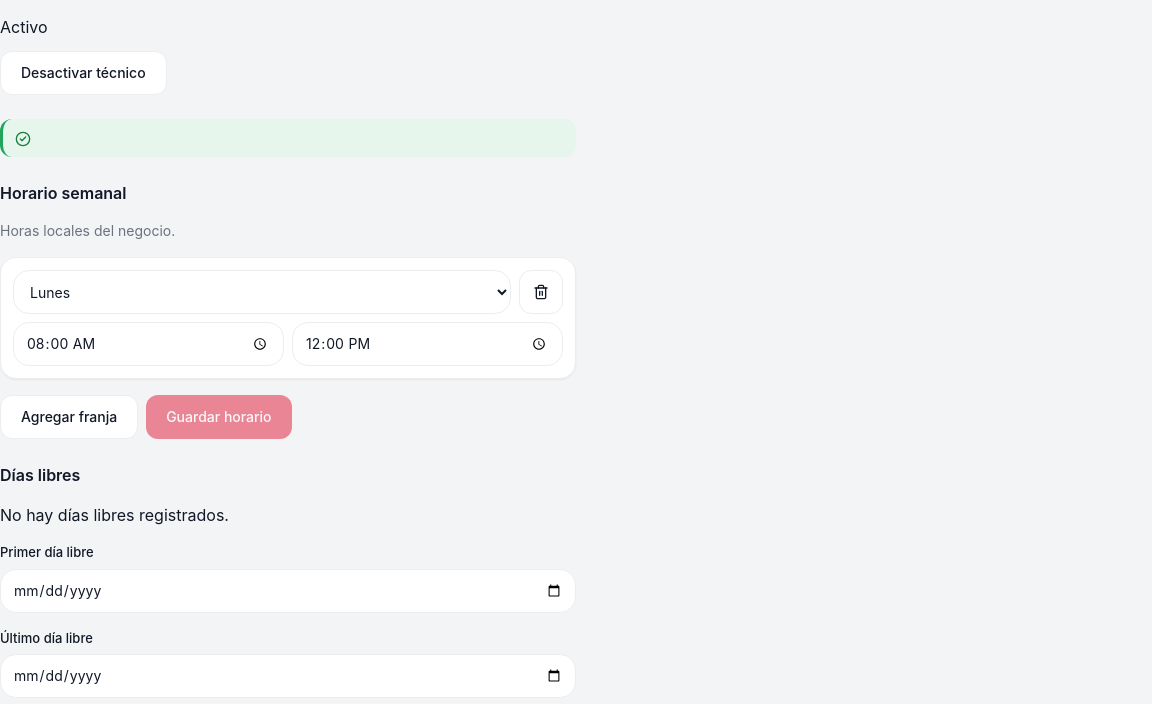
Test case: TechnicianDetailPage: horario semanal › abre el diálogo de conflicto cuando el nuevo horario deja citas fuera
(page scrolled)
Replace the text in the time field named "Fin de la franja 1" with "09:00". click: point(428, 344)
box: [292,322,563,366]
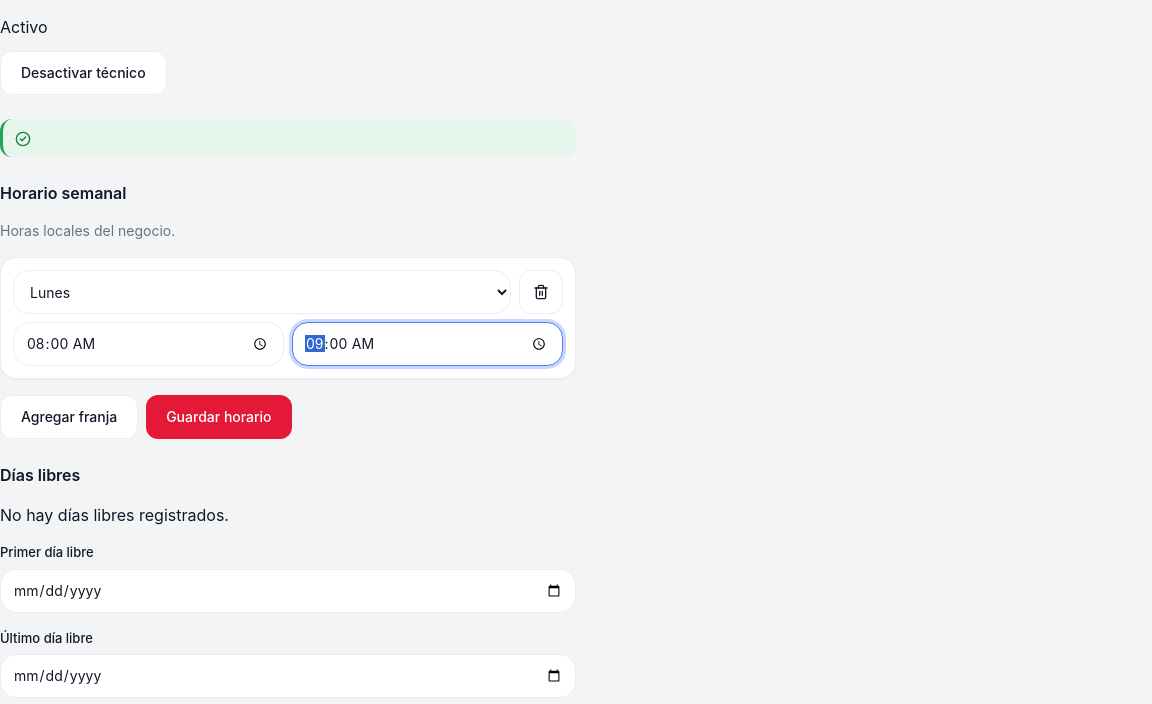
Click the button "Guardar horario". click: point(219, 417)
box: [146,395,292,439]
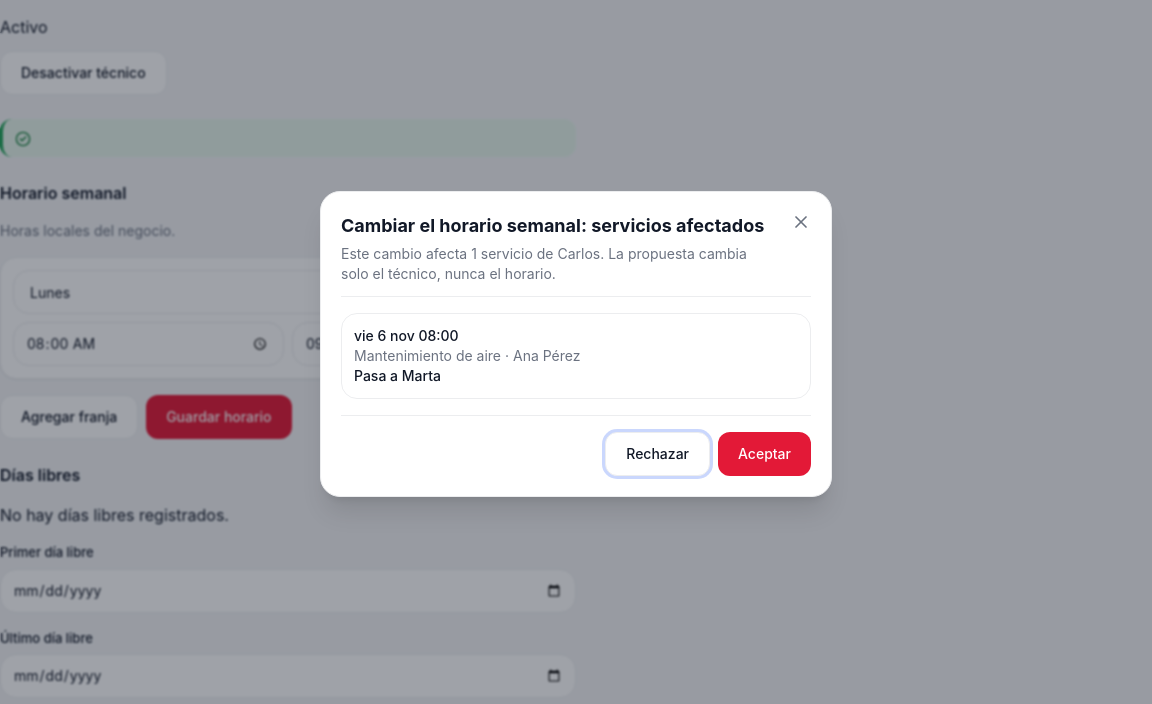
Expected: the dialog "Cambiar el horario semanal: servicios afectados" shows "Este cambio afecta 1 servicio de Carlos", [341,245,747,282]
Expected: the dialog "Cambiar el horario semanal: servicios afectados" shows "Pasa a Marta", [320,191,832,497]
